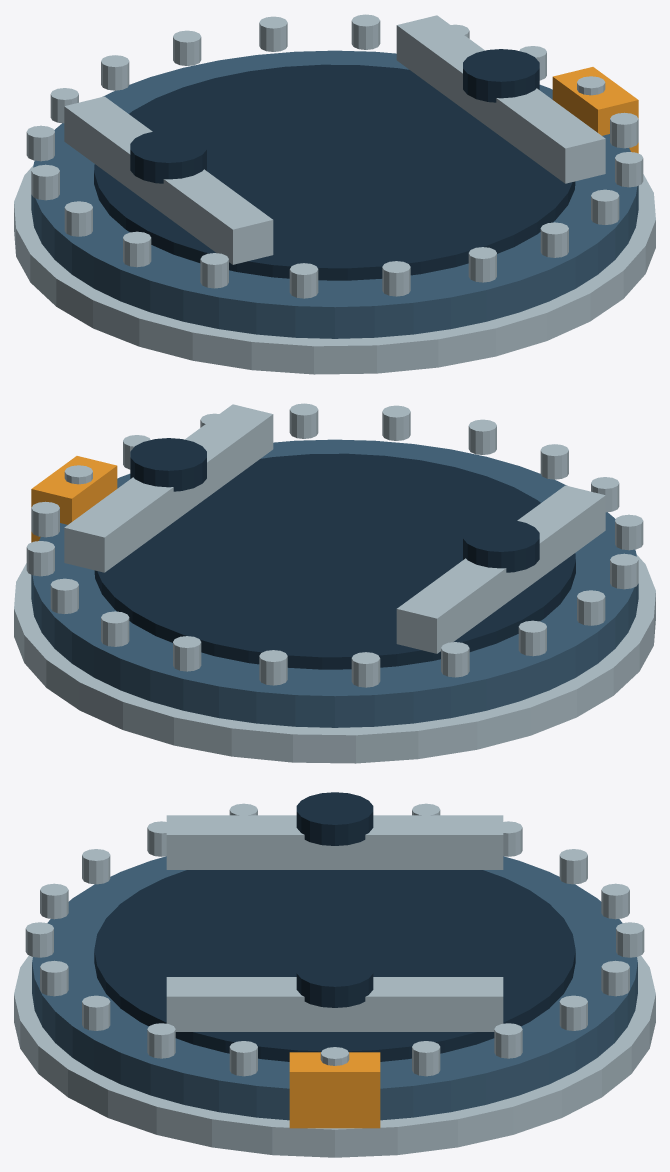
File: 02_L72_ReactorServiceLid.fbx
3 views of the same model, one above another, from view 1: azimuth 30°, elevation 25°; view 2: azimuth 150°, elevation 25°; view 3: azimuth 270°, elevation 25° (orthographic).
Visible parts, largest first — view 1: ReactorServiceLid; view 2: ReactorServiceLid; view 3: ReactorServiceLid.
Part boxes in pixels (<box>): ReactorServiceLid: <box>14,14,655,374</box>; ReactorServiceLid: <box>14,403,655,763</box>; ReactorServiceLid: <box>14,792,655,1157</box>.
Bounding box in the file's own units: 249 × 56.74 × 248.
